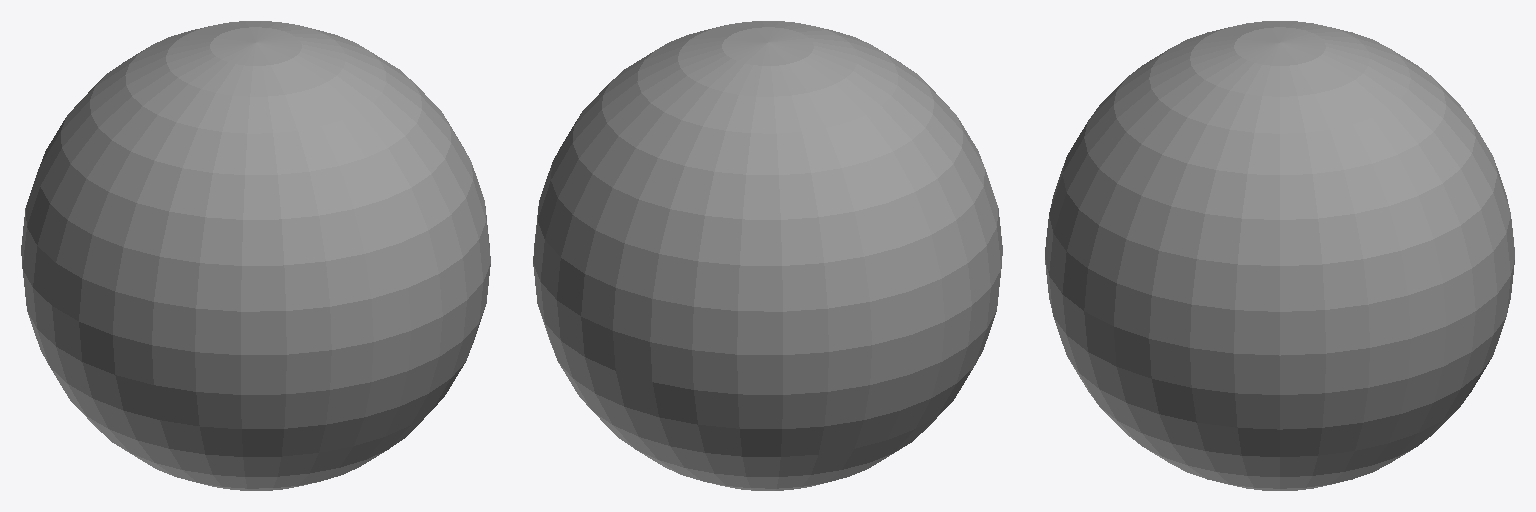
The model's file is orange.obj.
The picture shows the model from 3 angles: view 1: azimuth 30°, elevation 25°; view 2: azimuth 150°, elevation 25°; view 3: azimuth 270°, elevation 25°; orthographic projection.
Visible parts, largest first — view 1: Sphere_Sphere.001; view 2: Sphere_Sphere.001; view 3: Sphere_Sphere.001.
Boxes of the visible parts, <box> form: Sphere_Sphere.001: <box>21,21,490,490</box>; Sphere_Sphere.001: <box>533,21,1002,490</box>; Sphere_Sphere.001: <box>1045,21,1514,490</box>.
Size of the model in its own units: 0.5375 by 0.5375 by 0.5375.